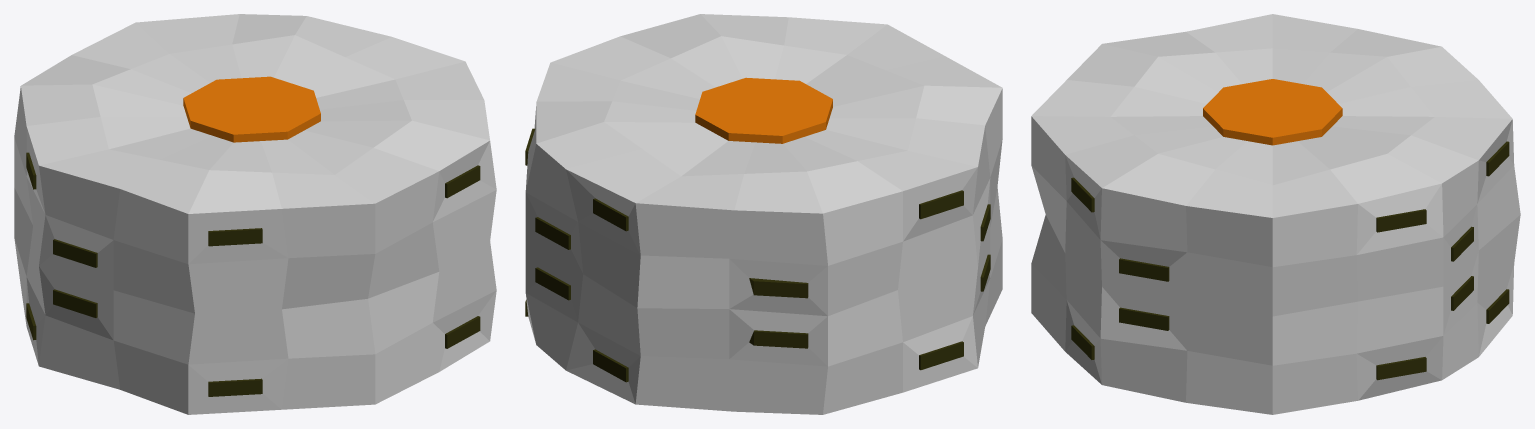
Rendered from m_coloniusLory_Maki_Rice_001.003.fbx.
3 views of the same model, side by side, from view 1: azimuth 30°, elevation 25°; view 2: azimuth 150°, elevation 25°; view 3: azimuth 270°, elevation 25° (orthographic). The views are drawn at different scales.
Parts seen in each view (by area): view 1: m_coloniusLory_Maki_Rice_001.003; view 2: m_coloniusLory_Maki_Rice_001.003; view 3: m_coloniusLory_Maki_Rice_001.003.
Part boxes in pixels (x1,y1,x2,y2): m_coloniusLory_Maki_Rice_001.003: [14, 14, 496, 414]; m_coloniusLory_Maki_Rice_001.003: [525, 14, 1002, 414]; m_coloniusLory_Maki_Rice_001.003: [1031, 14, 1520, 414].
Bounding box in the file's own units: 3.68 × 1.84 × 3.73.
